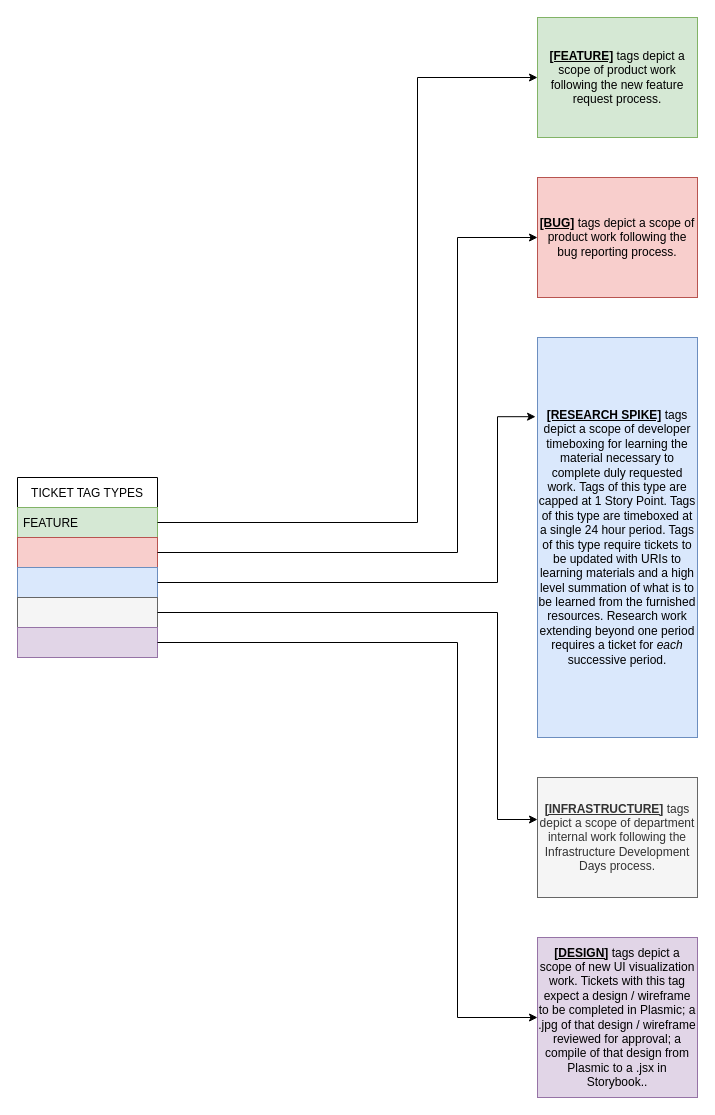
Image size: 715x1115. Some labels were removed from this diagram. The shapes that lost their labels are listed below. From the top down, each one's centre as x and y in pixels, then its label:
At [87,552]: "BUG".
At [87,582]: "RESEARCH SPIKE".
At [87,612]: "INFRASTRUCTURE".
At [87,642]: "DESIGN".
